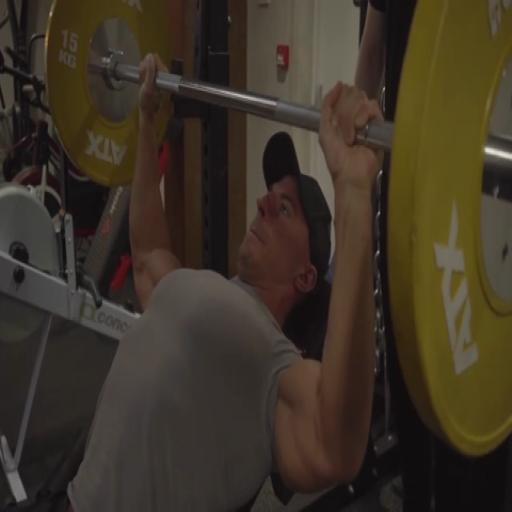exercise: (62, 51, 387, 511)
